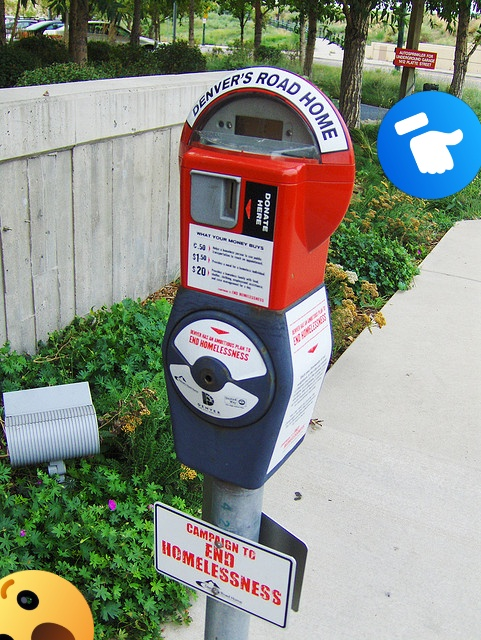like: (377, 91, 481, 199)
wow: (0, 570, 94, 640)
